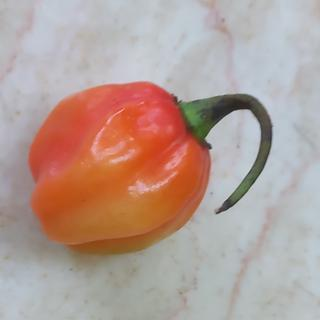Grade-B: (24, 78, 216, 256)
